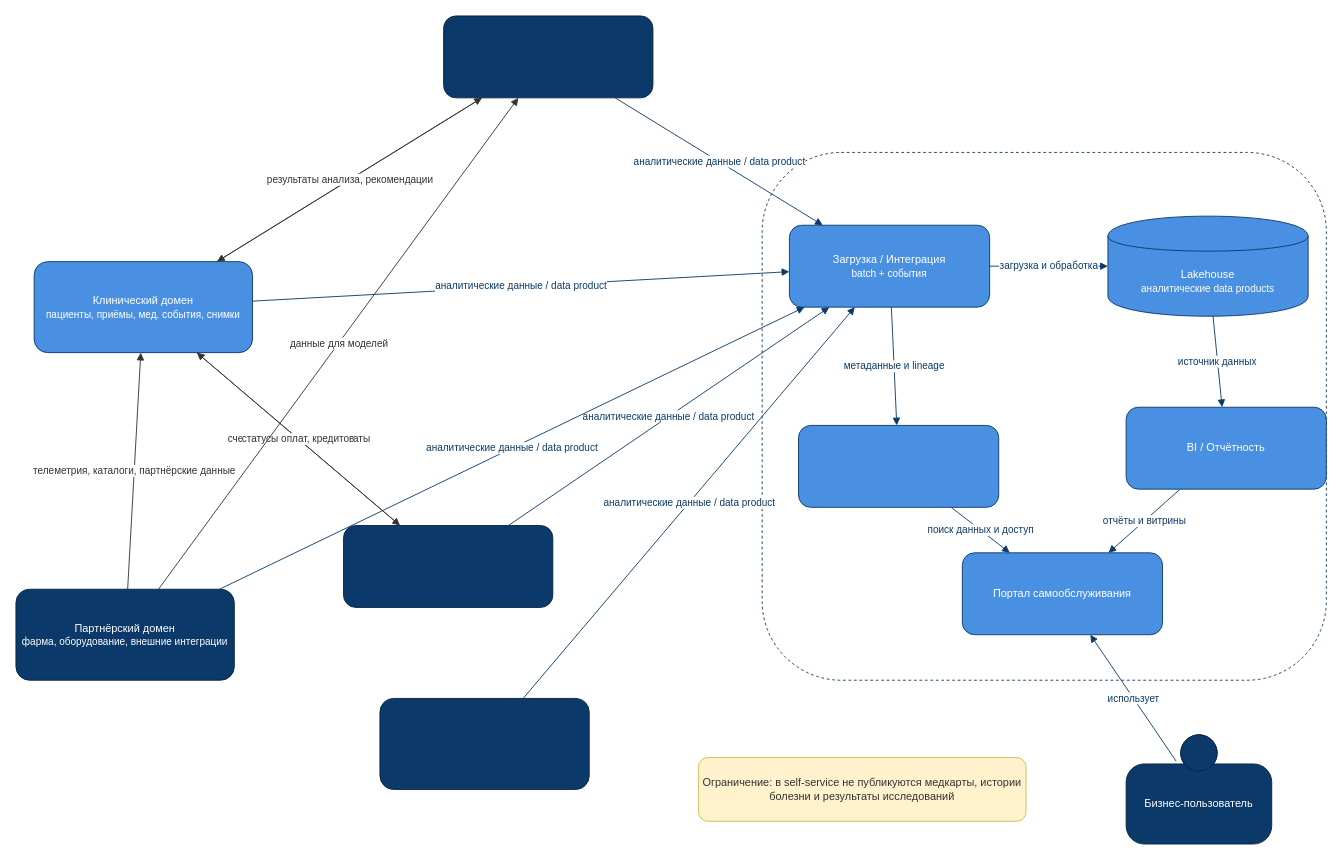
Image size: 1342x860. Some labels were removed from this diagram. The shapes that lost their labels are listed below. From the top down, each one's centre as x and y in pixels, then its label:
At [548,56]: "Домен ИИ модели, анализ, inference".
At [898,466]: "Каталог данных метаданные, lineage, политики".
At [448,566]: "Финтех-домен счета, платежи, кредиты".
At [484,743]: "Корпоративный домен персонал, инвентарь, управление клиниками".
